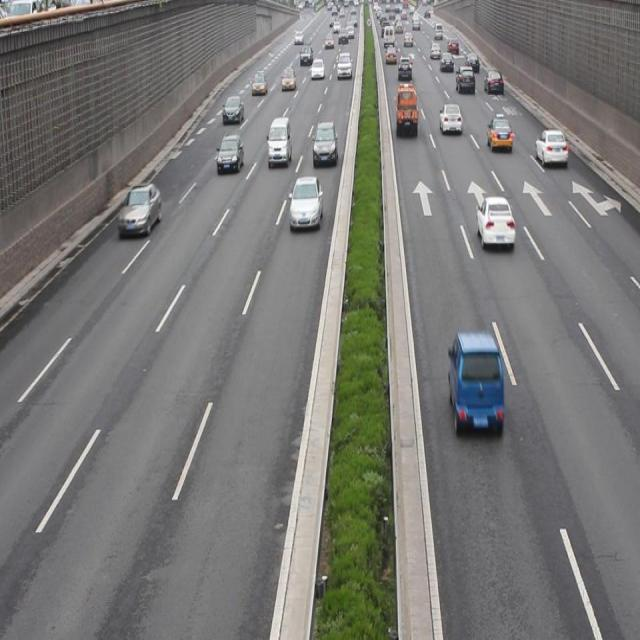bus: (396, 83, 416, 137)
car: (446, 331, 503, 435), (118, 182, 162, 235), (476, 196, 514, 250), (289, 176, 320, 229), (534, 128, 568, 172), (313, 123, 337, 165), (216, 134, 242, 171), (437, 101, 462, 138), (485, 117, 511, 152)
truck: (267, 116, 291, 168)
